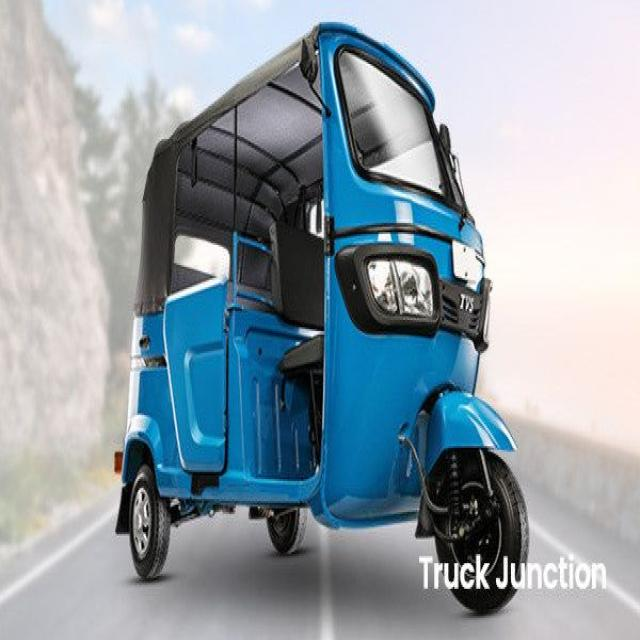autorickshaw: (116, 24, 529, 613)
